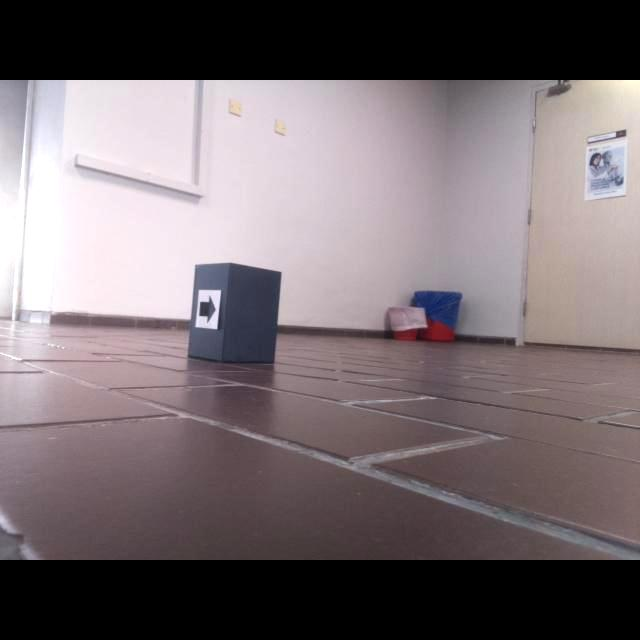RIGHT: (197, 294, 218, 325)
